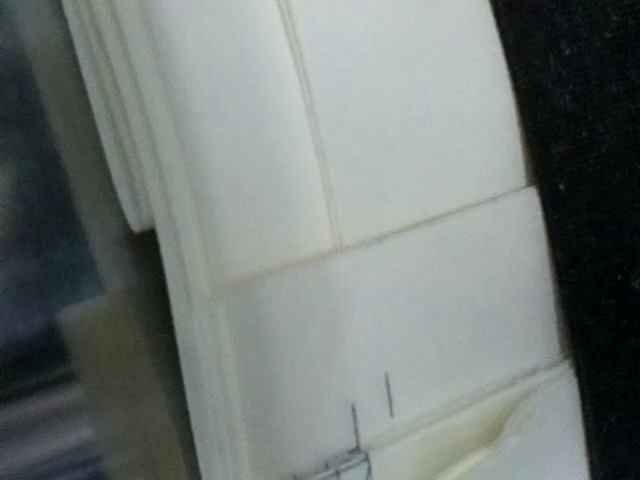not_sure: (283, 396, 378, 480)
